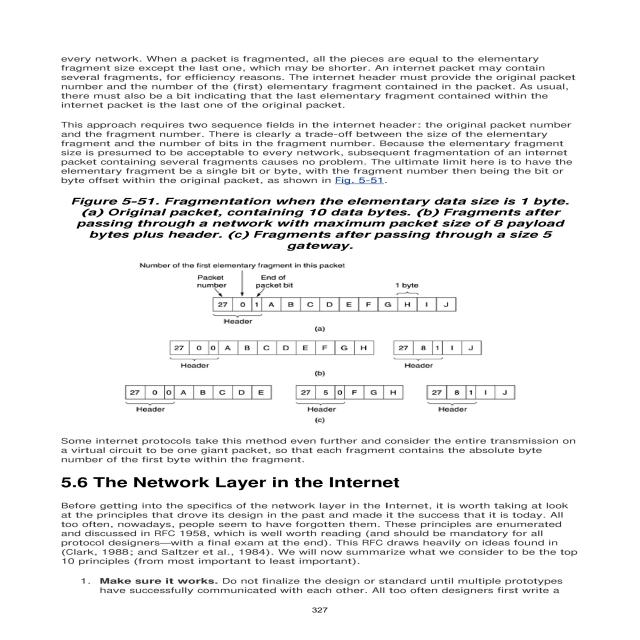diagram: (64, 192, 566, 430)
